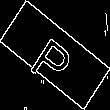P_NE: (28, 23, 82, 87)
